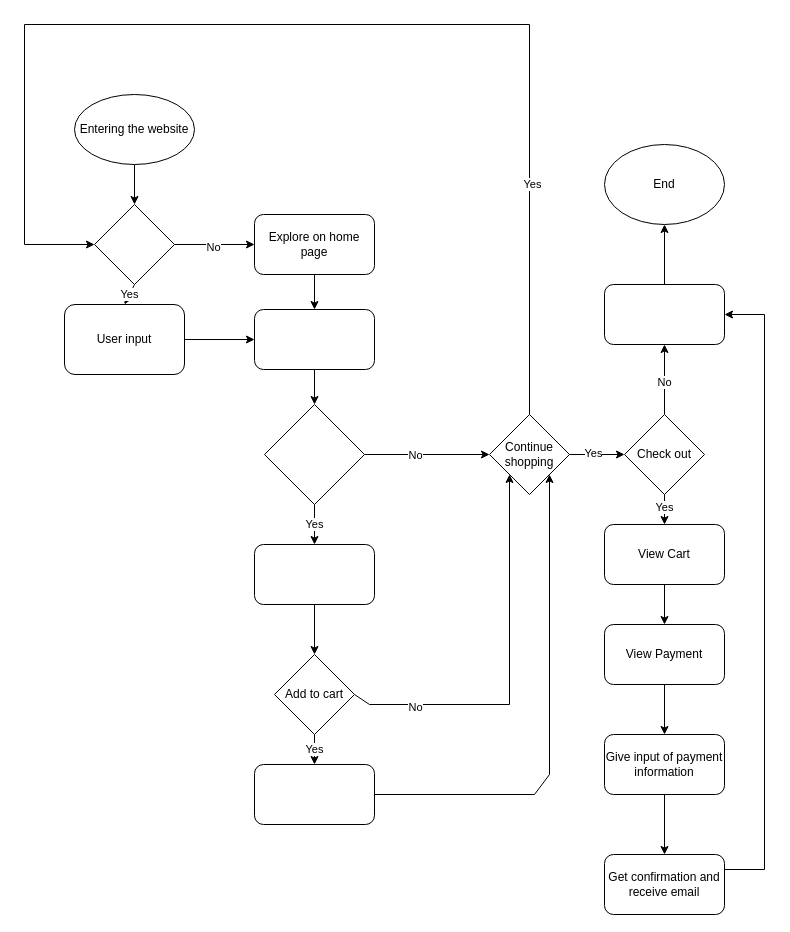
This 790x932 diagram has some shape labels left out. The shapes that lost their labels are listed below. From the top down, each one's box as (x1, y1, x2, y2) in pixels, then its label:
(94, 204, 174, 284): Search
(604, 284, 724, 344): Leave the website
(254, 308, 374, 370): Look over products
(264, 404, 364, 504): View a specific prodcut
(254, 544, 374, 604): Open Product's webpage
(254, 764, 374, 824): Receive Confirmation
